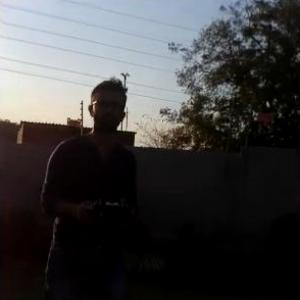follow: (34, 72, 148, 299)
